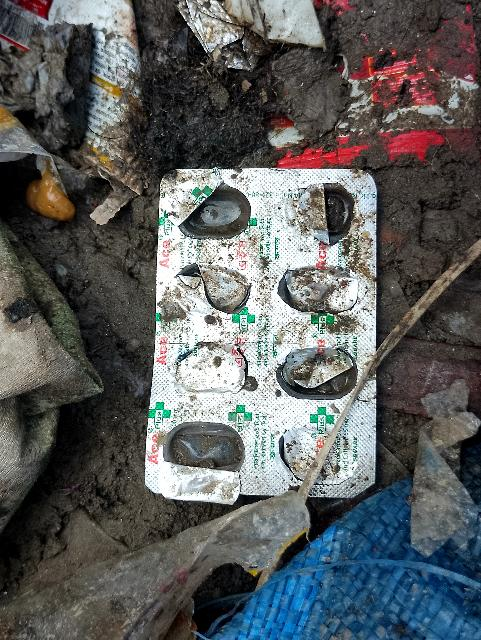medicine: (158, 164, 371, 496)
